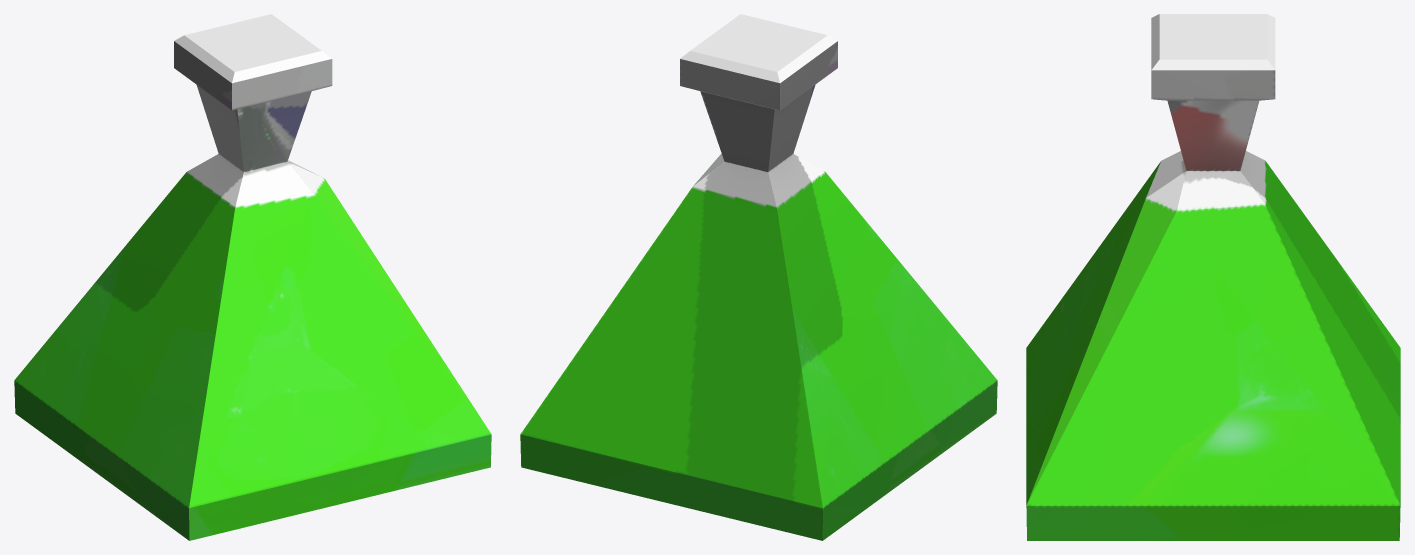
Rendered from Potion8Low.fbx.
The picture shows the model from 3 angles, left to right: view 1: azimuth 30°, elevation 25°; view 2: azimuth 150°, elevation 25°; view 3: azimuth 270°, elevation 25°; orthographic projection. The views are drawn at different scales.
Visible parts, largest first — view 1: Cylinder.005; view 2: Cylinder.005; view 3: Cylinder.005.
Boxes of the visible parts, x1,y1,x2,y2 form: Cylinder.005: [14, 14, 491, 540]; Cylinder.005: [520, 14, 997, 540]; Cylinder.005: [1026, 14, 1400, 540].
Size of the model in its own units: 47.17 by 59.2 by 47.17.
